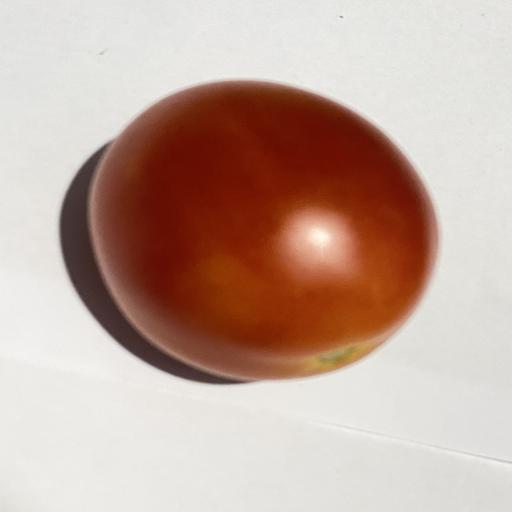ripe: (89, 81, 437, 380)
